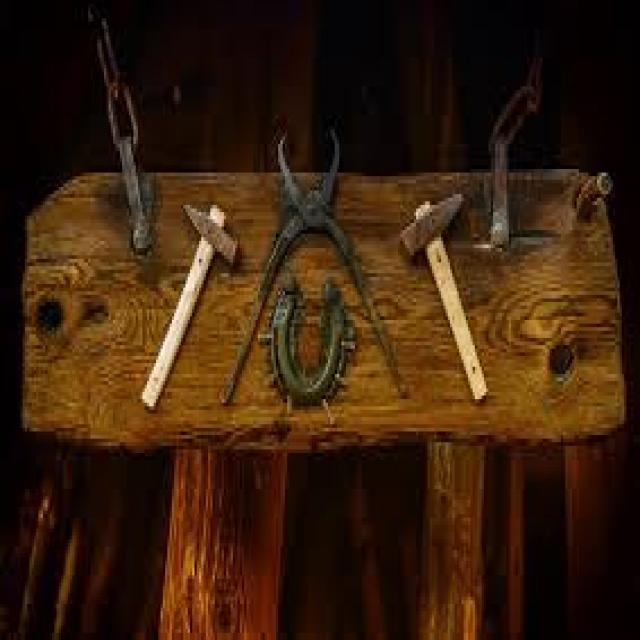hammer: (392, 172, 496, 410), (140, 191, 240, 417)
